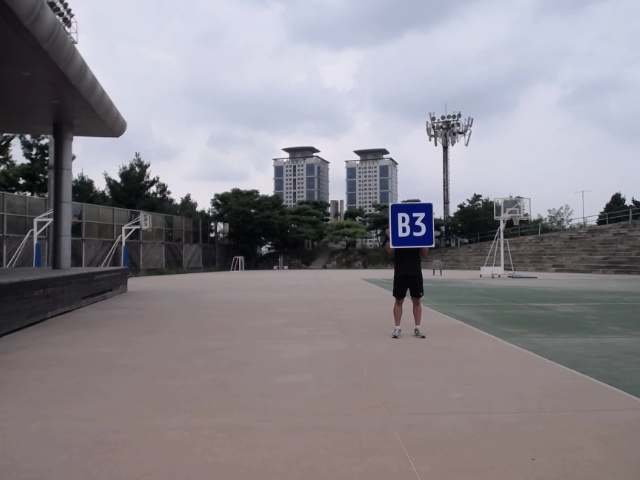delivery_b3: (387, 202, 438, 249)
